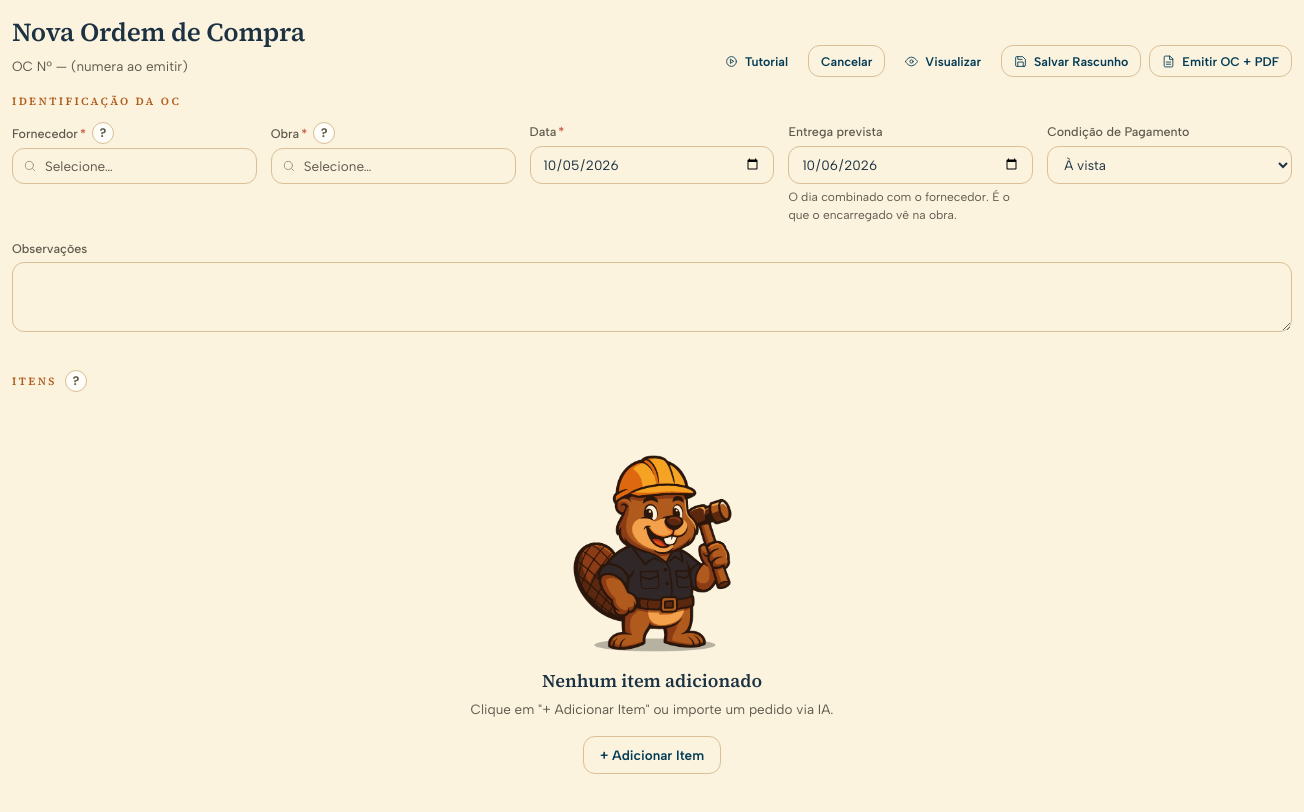
it: a OC que nasce agora vem com a entrega no dia seguinte (CTO-D728 §2) › a Data muda antes de mexerem na entrega: a entrega acompanha
The width and height of the screenshot is (1304, 812).
Type "2026-10-09" into the date field named "Data".
click(652, 165); type("2026-10-09")  # box [530,146,774,184]
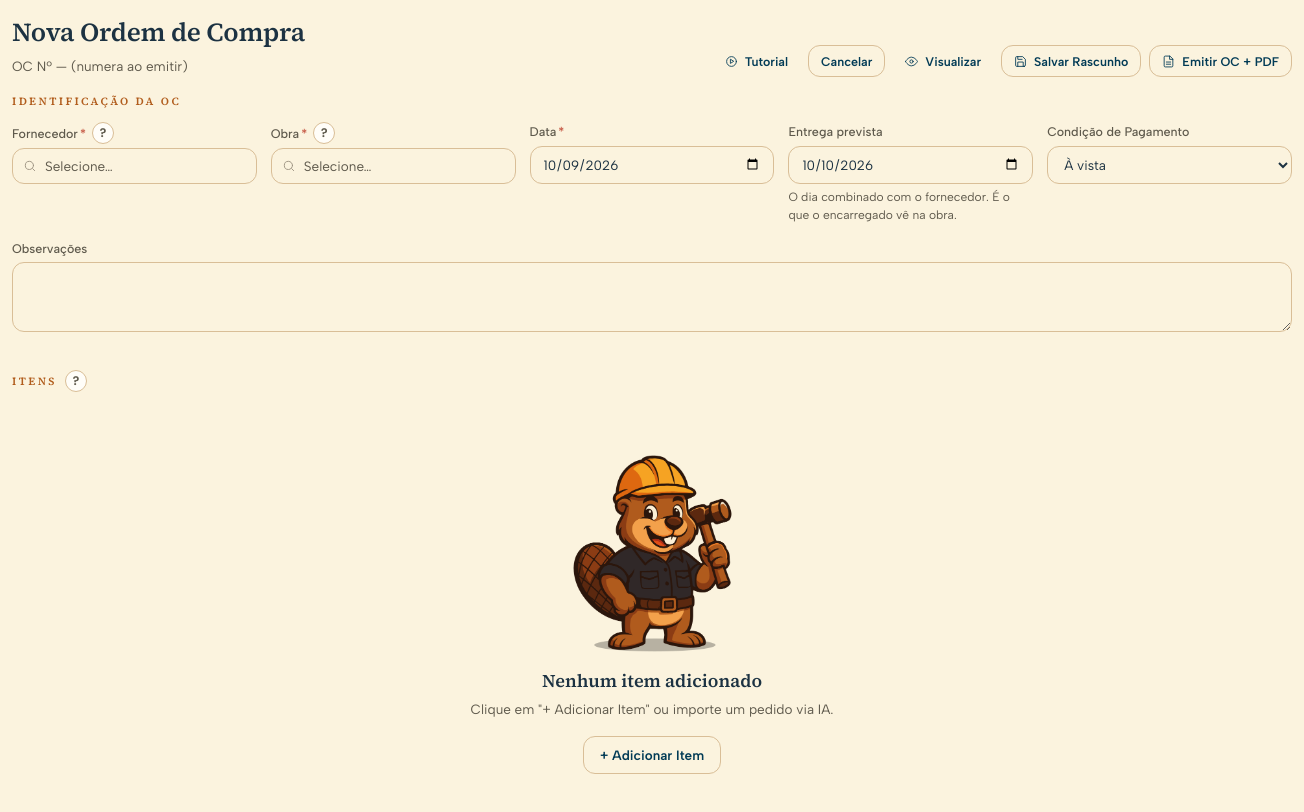
Expected: the date field named "Entrega prevista" holds "2026-10-10", [788,146,1033,184]
